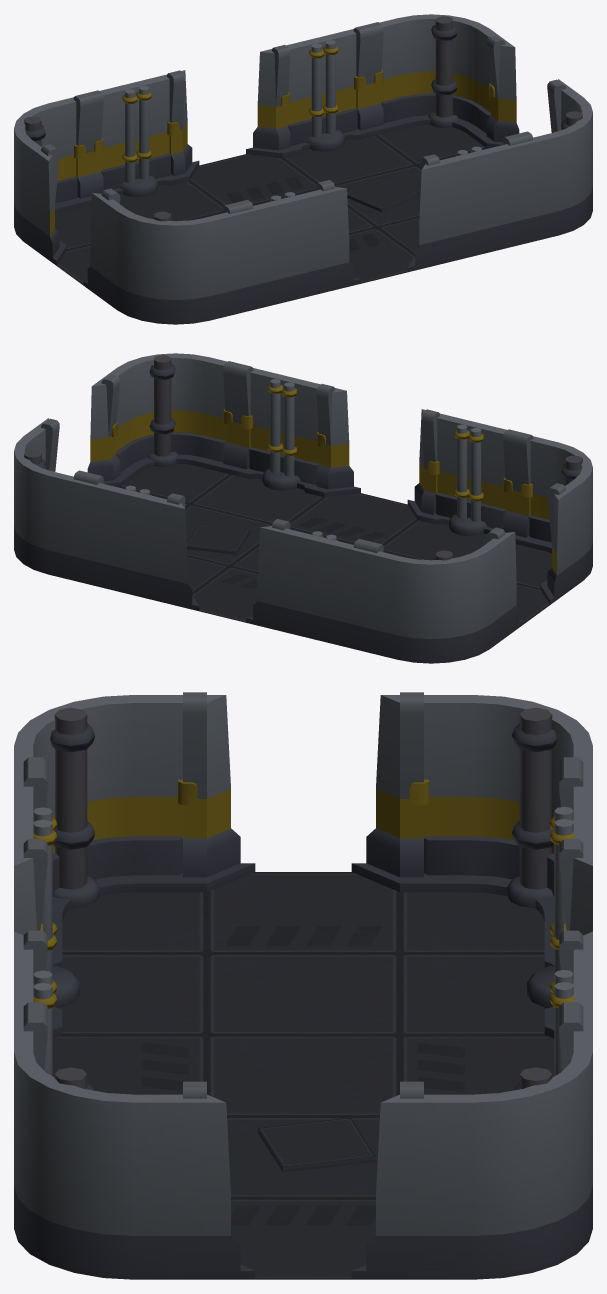
File: k_room_wide.glb
The picture shows the model from 3 angles, top to bottom: view 1: azimuth 30°, elevation 25°; view 2: azimuth 150°, elevation 25°; view 3: azimuth 270°, elevation 25°; orthographic projection. The views are drawn at different scales.
Visible parts, largest first — view 1: room-wide; view 2: room-wide; view 3: room-wide.
Boxes of the visible parts, bbox=[...] form: room-wide: bbox=[14, 14, 592, 324]; room-wide: bbox=[14, 353, 592, 663]; room-wide: bbox=[14, 692, 592, 1279].
Size of the model in its own units: 20 by 4.25 by 12.
Materials: 1 (1 with a texture image).
